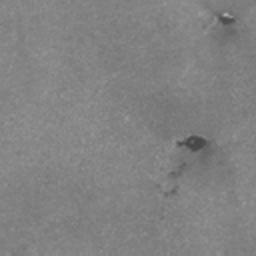Iron sheet ash: (175, 133, 207, 154), (218, 9, 238, 27)
